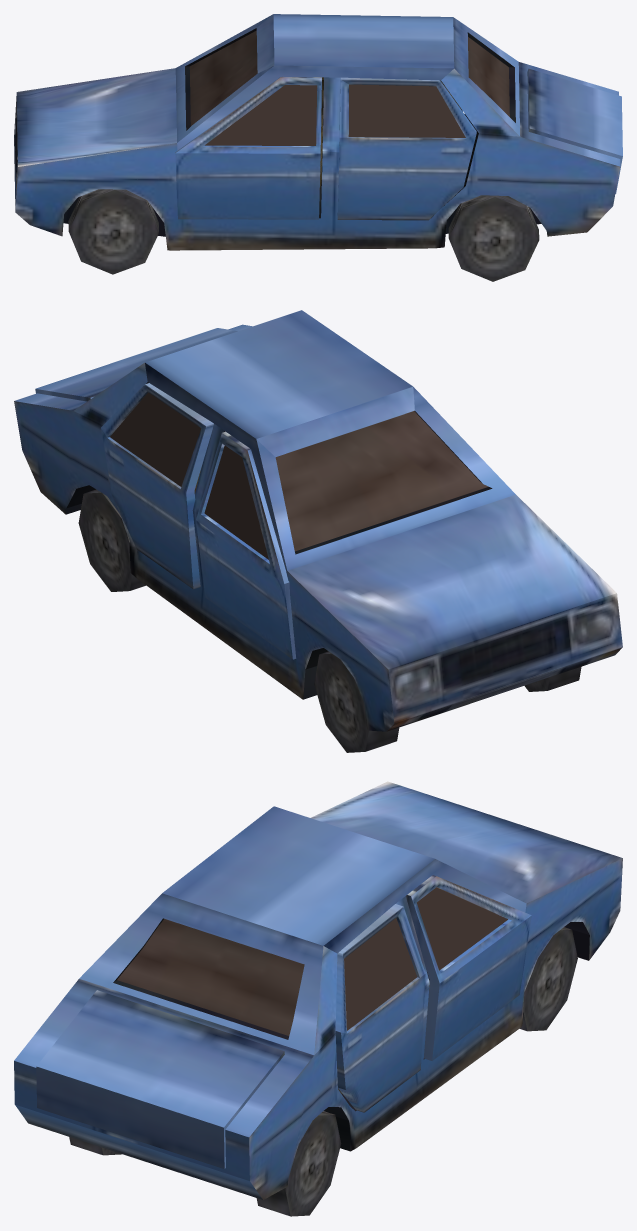
3 renders of one model, top to bottom at view 1: azimuth 30°, elevation 25°; view 2: azimuth 150°, elevation 25°; view 3: azimuth 270°, elevation 25°, orthographic. The views are drawn at different scales.
Parts seen in each view (by area): view 1: Auto012_Auto_0, Auto009_Auto_0, Auto008_Auto_0, Auto007_Auto_0, Cylinder041_Auto_0, Cylinder045_Auto_0, Auto012_Material155_0, Auto008_Material155_0, Auto009_Material155_0; view 2: Auto012_Auto_0, Auto012_Material155_0, Auto010_Auto_0, Auto011_Auto_0, Auto010_Material155_0, Cylinder058_Auto_0, Cylinder057_Auto_0, Auto011_Material155_0, Auto007_Auto_0, Cylinder045_Auto_0; view 3: Auto012_Auto_0, Auto007_Auto_0, Auto012_Material155_0, Auto011_Auto_0, Auto010_Auto_0, Auto010_Material155_0, Cylinder057_Auto_0, Auto011_Material155_0, Cylinder058_Auto_0.
Part boxes in pixels (x1,y1,x2,y2): Auto012_Auto_0: (14, 14, 620, 250); Auto009_Auto_0: (175, 76, 321, 219); Auto008_Auto_0: (337, 77, 476, 220); Auto007_Auto_0: (527, 68, 622, 193); Cylinder041_Auto_0: (448, 195, 539, 281); Cylinder045_Auto_0: (68, 189, 158, 274); Auto012_Material155_0: (189, 30, 509, 125); Auto008_Material155_0: (348, 84, 465, 137); Auto009_Material155_0: (204, 85, 317, 145); Auto012_Auto_0: (14, 310, 622, 731); Auto012_Material155_0: (275, 411, 488, 551); Auto010_Auto_0: (101, 383, 213, 589); Auto011_Auto_0: (196, 431, 296, 659); Auto010_Material155_0: (110, 392, 201, 486); Cylinder058_Auto_0: (314, 651, 399, 752); Cylinder057_Auto_0: (78, 489, 145, 591); Auto011_Material155_0: (204, 445, 268, 559); Auto007_Auto_0: (35, 328, 237, 401); Cylinder045_Auto_0: (524, 666, 581, 691); Auto012_Auto_0: (14, 781, 622, 1199); Auto007_Auto_0: (36, 990, 284, 1168); Auto012_Material155_0: (117, 919, 304, 1035); Auto011_Auto_0: (406, 875, 531, 1060); Auto010_Auto_0: (335, 904, 425, 1112); Auto010_Material155_0: (344, 918, 417, 1030); Cylinder057_Auto_0: (256, 1111, 341, 1216); Auto011_Material155_0: (417, 887, 507, 970); Cylinder058_Auto_0: (519, 927, 577, 1031).
Bounding box in the file's own units: 4.71 × 1.75 × 3.6.
Materials: 6 (6 with a texture image).
